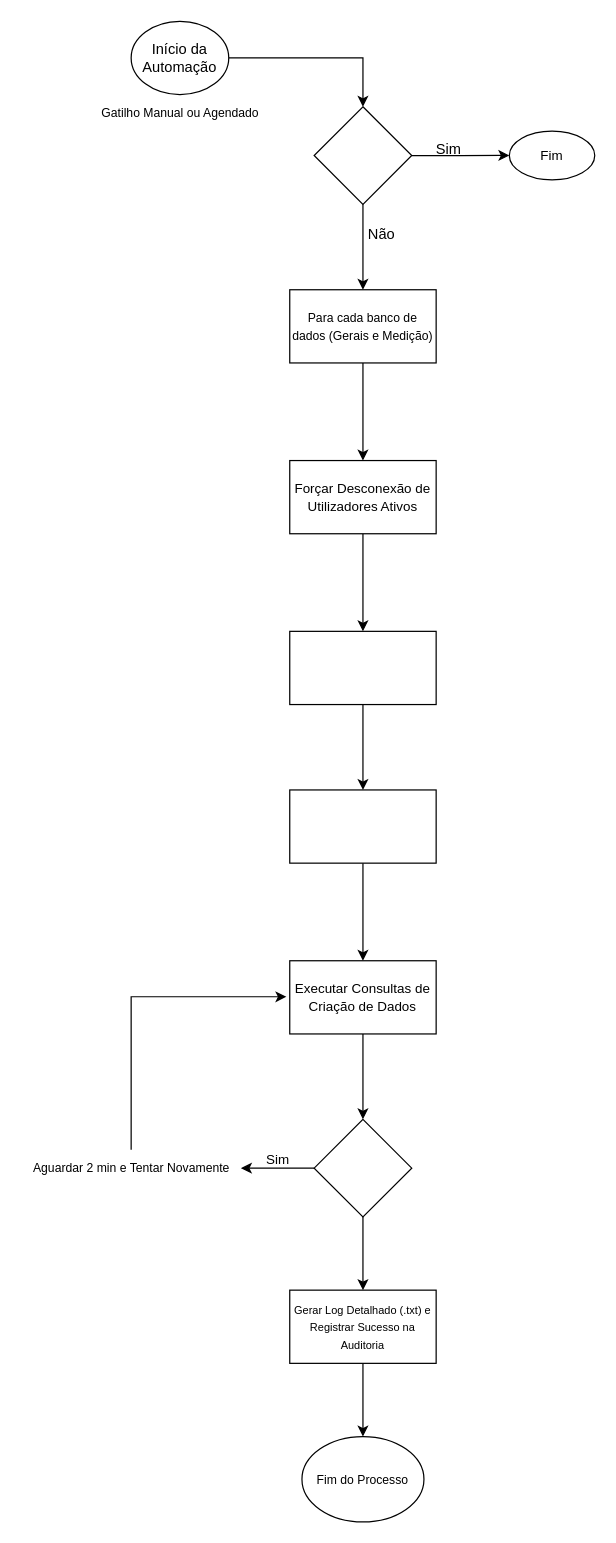
Image size: 616x1543. Some labels were removed from this diagram. The centre of each missing label's shape, as x and y in pixels:
"Consulta Falhou?" belongs at (362,1167).
"Criar Backup Rotativo (Mantém os 5 mais recentes)" belongs at (362,667).
"Já executou hoje?" belongs at (362,155).
"Limpeza e Otimização (Deleta tabelas antigas e Compacta o DB)" belongs at (362,826).
